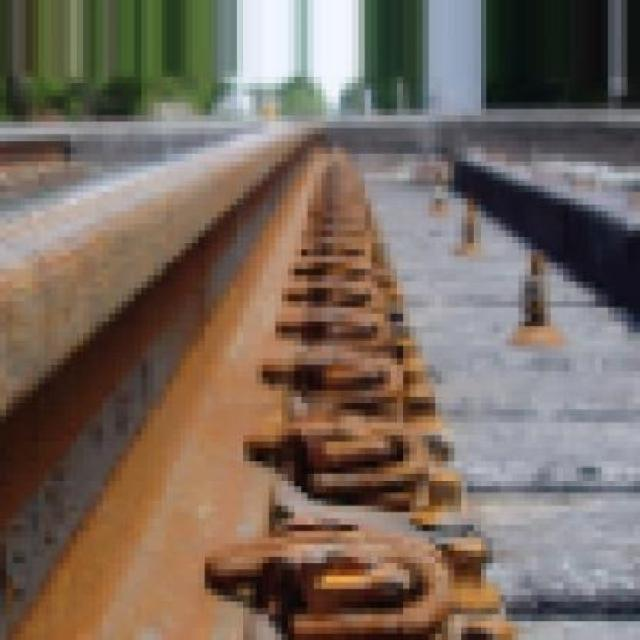defective: (0, 32, 417, 630)
